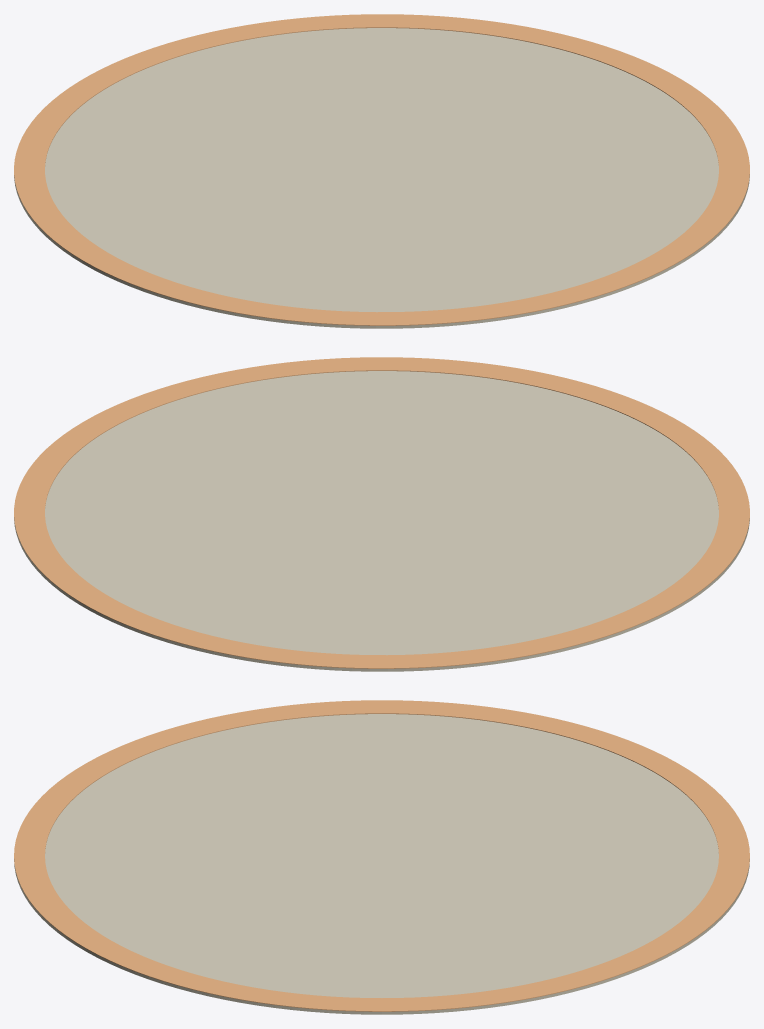
Rendered from rug_m.glb.
3 views of the same model, one above another, from view 1: azimuth 30°, elevation 25°; view 2: azimuth 150°, elevation 25°; view 3: azimuth 270°, elevation 25° (orthographic).
Visible parts, largest first — view 1: rug_m_fabric_m, rug_m_fabric_o; view 2: rug_m_fabric_m, rug_m_fabric_o; view 3: rug_m_fabric_m, rug_m_fabric_o.
Part boxes in pixels (box(x1,y1,x2,y2)): rug_m_fabric_m: box(14, 28, 749, 328); rug_m_fabric_o: box(14, 14, 749, 325); rug_m_fabric_m: box(14, 371, 749, 671); rug_m_fabric_o: box(14, 357, 749, 668); rug_m_fabric_m: box(14, 714, 749, 1014); rug_m_fabric_o: box(14, 700, 749, 1011).
Bounding box in the file's own units: 1.9 × 0.01 × 1.9.
